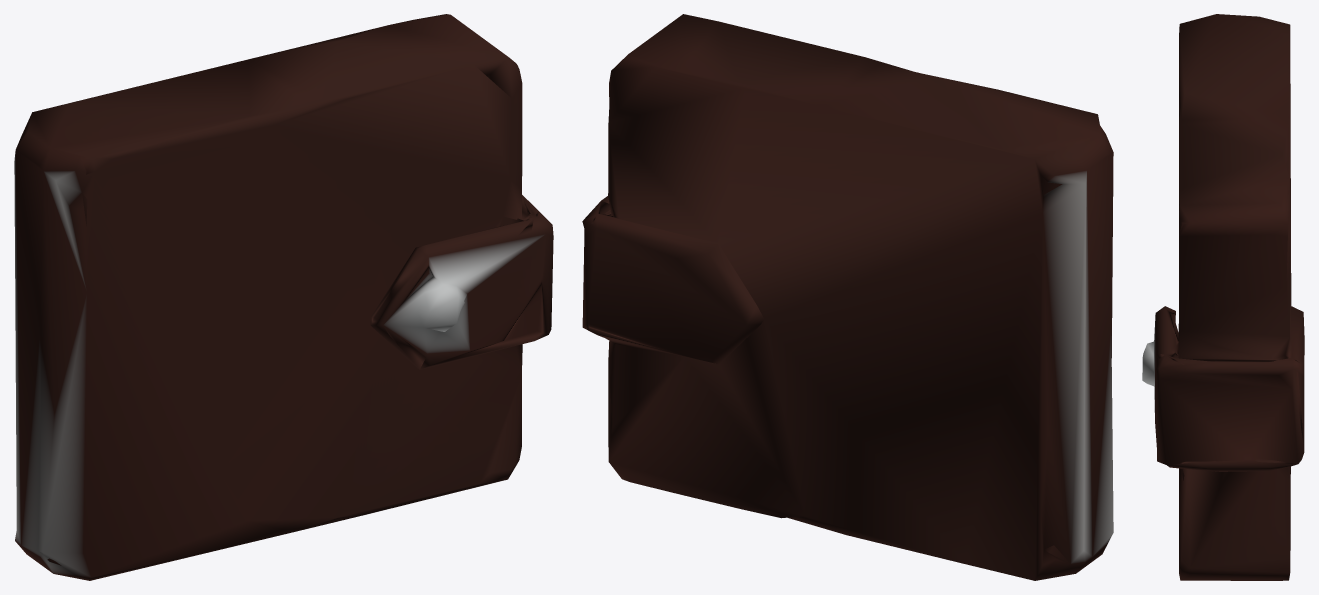
The model's file is gen3d-wallet-lod1.glb.
3 views of the same model, side by side, from view 1: azimuth 30°, elevation 25°; view 2: azimuth 150°, elevation 25°; view 3: azimuth 270°, elevation 25° (orthographic). The views are drawn at different scales.
Visible parts, largest first — view 1: part_0; view 2: part_0; view 3: part_0.
Part boxes in pixels (x1=…): part_0: x1=14, y1=14, x2=553, y2=580; part_0: x1=582, y1=14, x2=1113, y2=580; part_0: x1=1142, y1=14, x2=1304, y2=580.
Bounding box in the file's own units: 1.2 × 0.9999 × 0.3889.
